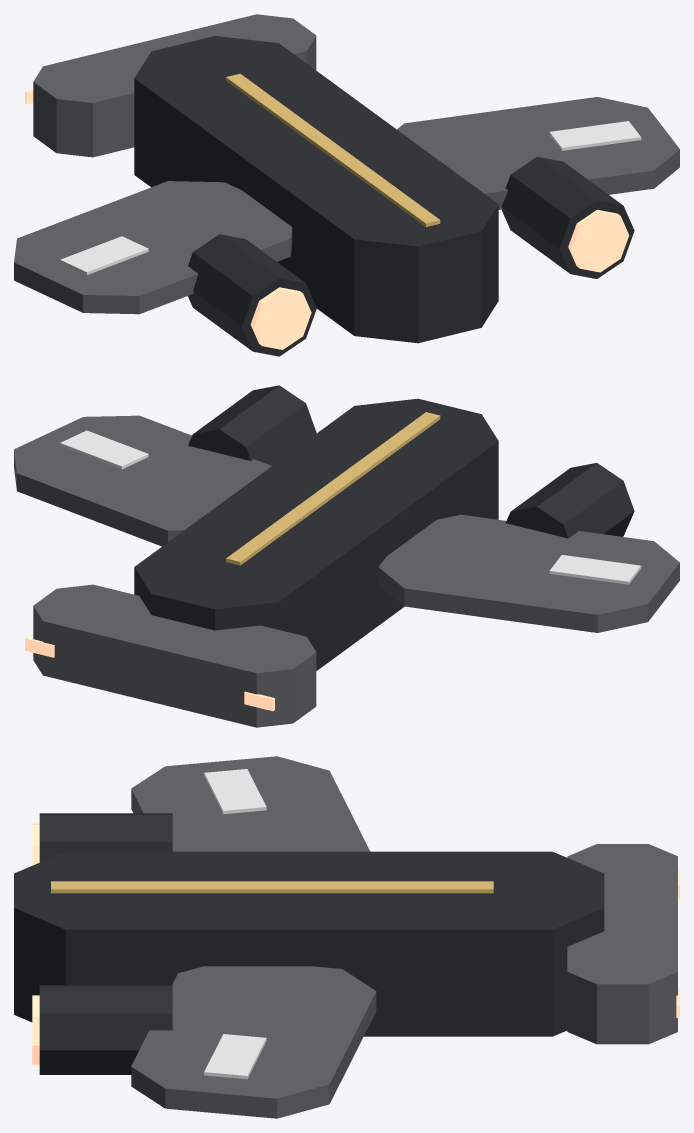
File: Aegis_Hammerhead.fbx
3 views of the same model, one above another, from view 1: azimuth 30°, elevation 25°; view 2: azimuth 150°, elevation 25°; view 3: azimuth 270°, elevation 25° (orthographic). The views are drawn at different scales.
Parts seen in each view (by area): view 1: HAM_Fuselage, HAM_Wing-1, HAM_Wing1, HAM_Head, HAM_Engine1, HAM_Engine-1, HAM_SpineGold, HAM_EngineGlow-1, HAM_EngineGlow1, HAM_Team1, HAM_Team-1; view 2: HAM_Fuselage, HAM_Head, HAM_Wing-1, HAM_Wing1, HAM_Engine-1, HAM_Engine1, HAM_SpineGold, HAM_Team-1, HAM_Team1; view 3: HAM_Fuselage, HAM_Wing1, HAM_Head, HAM_Wing-1, HAM_Engine1, HAM_SpineGold, HAM_Engine-1, HAM_Team-1, HAM_Team1, HAM_EngineGlow1.
Boxes of the visible parts, x1,y1,x2,y2 form: HAM_Fuselage: (134,36,498,343); HAM_Wing-1: (14,181,292,314); HAM_Wing1: (397,97,679,209); HAM_Head: (33,14,316,157); HAM_Engine1: (501,156,634,278); HAM_Engine-1: (188,234,316,356); HAM_SpineGold: (226,73,440,226); HAM_EngineGlow-1: (250,287,311,349); HAM_EngineGlow1: (568,209,629,272); HAM_Team1: (549,121,641,150); HAM_Team-1: (60,236,148,274); HAM_Fuselage: (134,398,498,670); HAM_Head: (33,584,316,727); HAM_Wing-1: (378,514,679,632); HAM_Wing1: (14,415,271,546); HAM_Engine-1: (505,463,634,538); HAM_Engine1: (188,385,316,465); HAM_SpineGold: (226,412,440,565); HAM_Team-1: (549,555,641,584); HAM_Team1: (60,430,148,469); HAM_Fuselage: (14,851,604,1036); HAM_Wing1: (131,966,376,1118); HAM_Head: (567,844,677,1044); HAM_Wing-1: (131,756,370,851); HAM_Engine1: (39,985,172,1074); HAM_SpineGold: (51,881,493,893); HAM_Engine-1: (39,813,172,862); HAM_Team-1: (204,769,266,814); HAM_Team1: (204,1034,266,1079); HAM_EngineGlow1: (32,995,39,1064).
Size of the model in its own units: 2.2 by 0.356 by 1.81.
